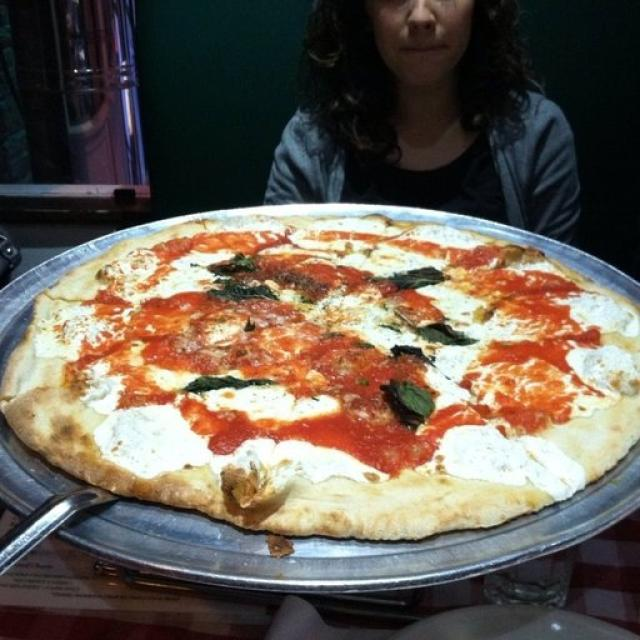Basil: (399, 313, 483, 354), (210, 249, 273, 303), (188, 368, 277, 395), (385, 379, 431, 428), (388, 263, 442, 289)
Cheese: (436, 417, 582, 497), (104, 409, 208, 474), (436, 285, 536, 344), (299, 235, 431, 277), (307, 292, 395, 351), (199, 390, 339, 422), (563, 292, 638, 342), (567, 342, 639, 392), (44, 303, 110, 354), (128, 258, 218, 294)
Pizza: (6, 215, 640, 538)
